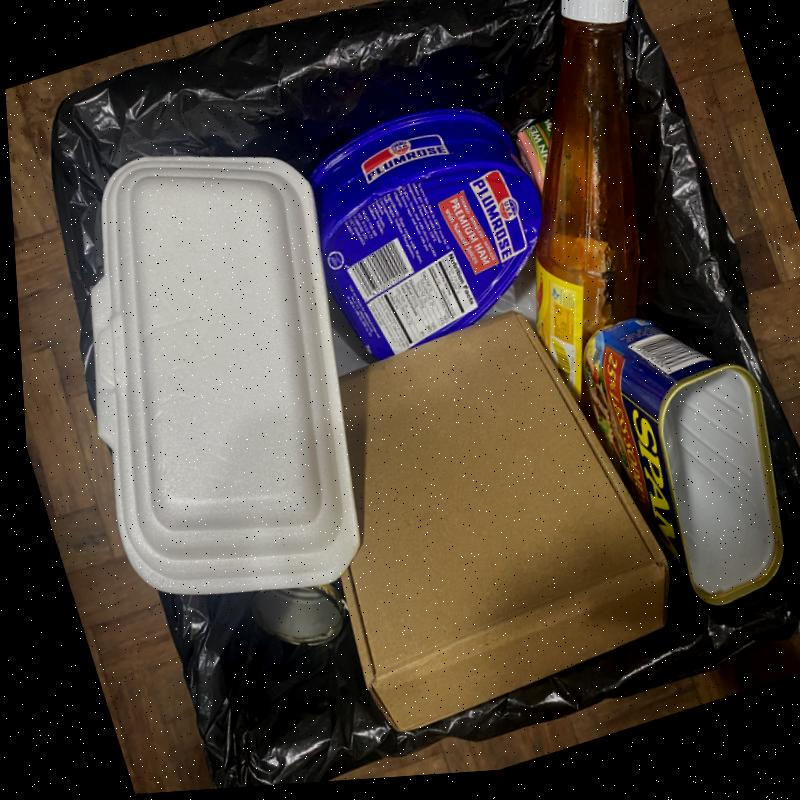aluminum: (309, 106, 542, 358), (582, 316, 784, 605), (251, 576, 347, 644), (515, 117, 551, 195)
cardboard: (339, 308, 671, 731)
glass bottle: (535, 0, 641, 405)
styrofoam containers: (90, 154, 361, 594)
